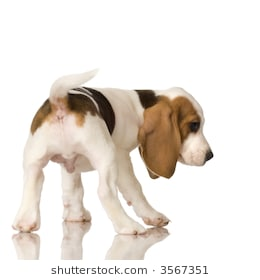dog: (7, 79, 213, 233)
